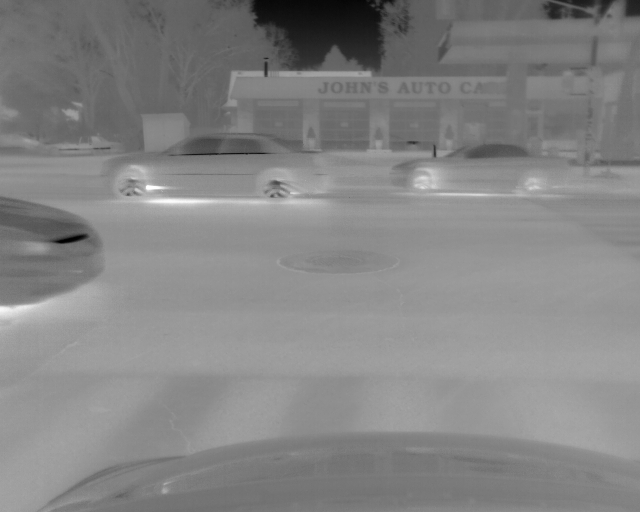car: (102, 131, 328, 203), (1, 194, 106, 308), (389, 141, 567, 193)
